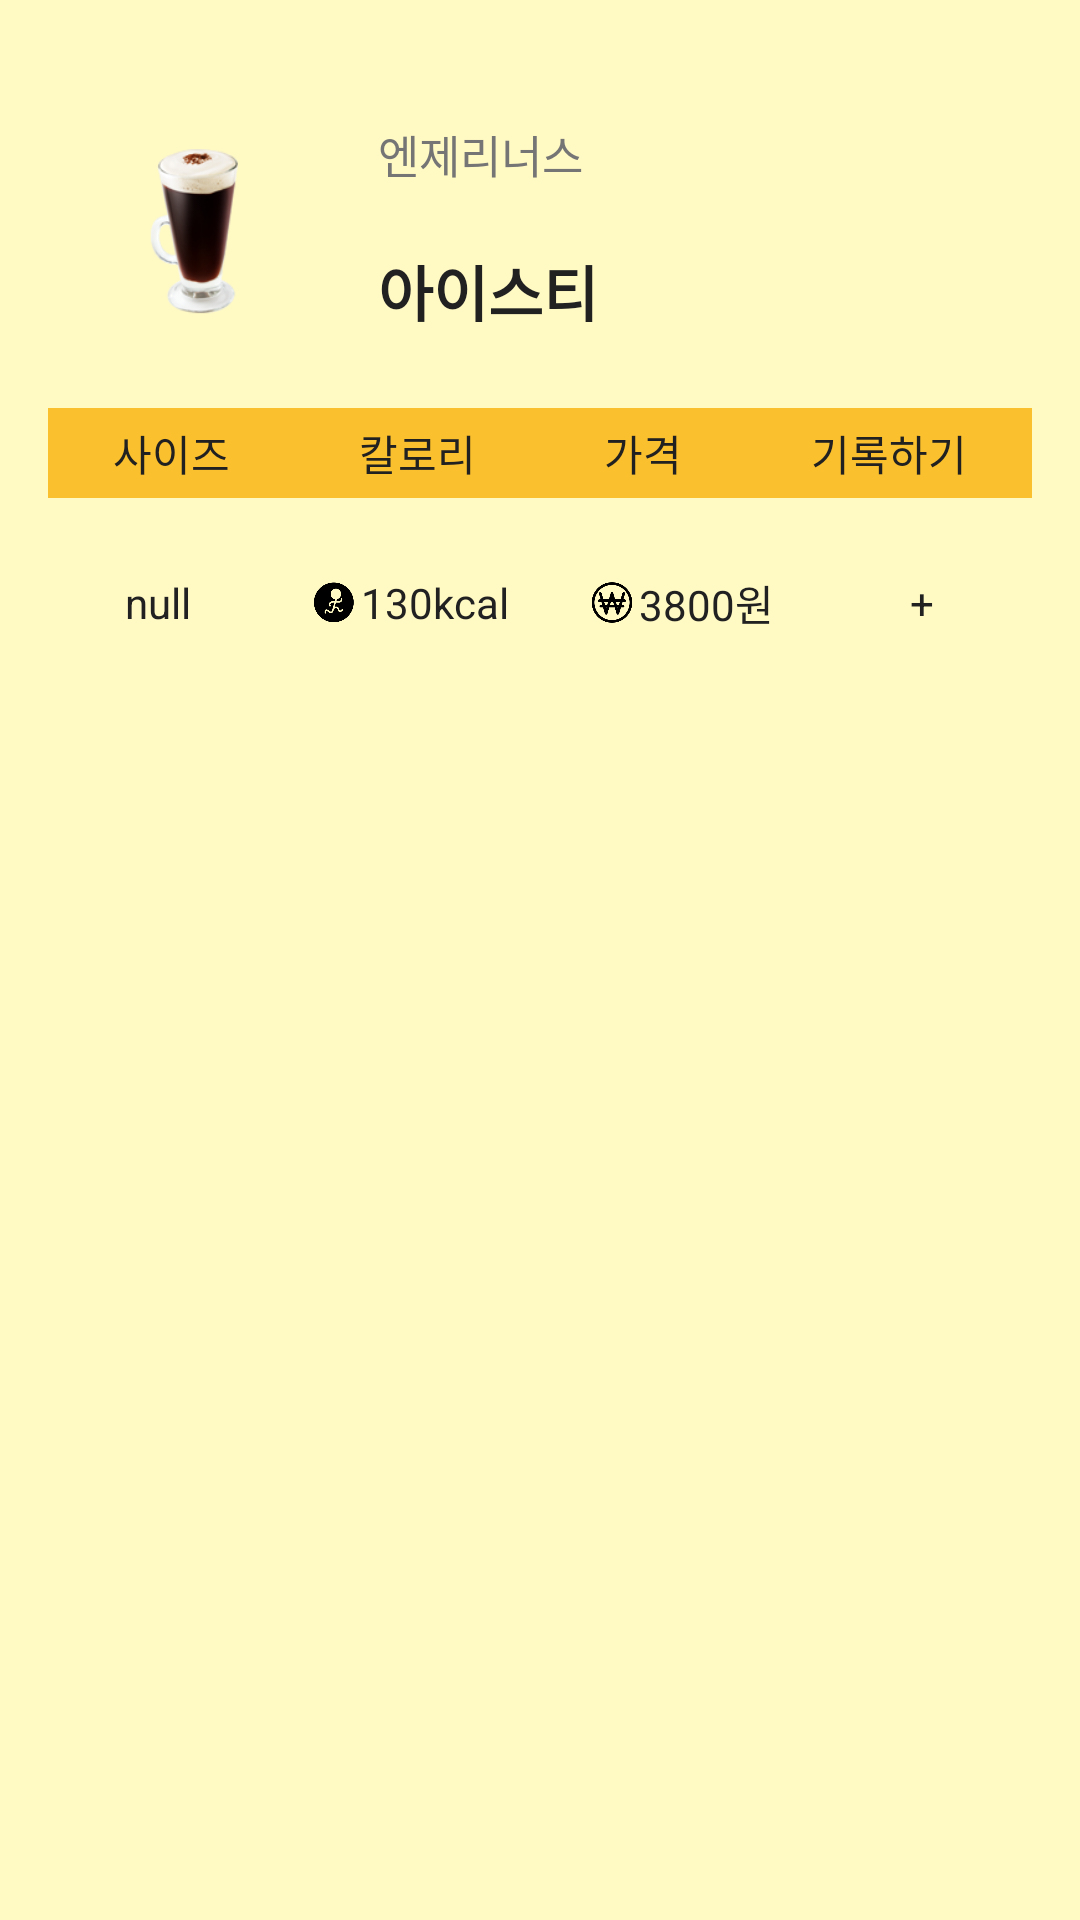

Icons on this 1080 × 1920 Android screen, each with its box as (x1, y1, x2, y2):
calorei: (314, 582, 354, 622)
won: (592, 582, 632, 623)
